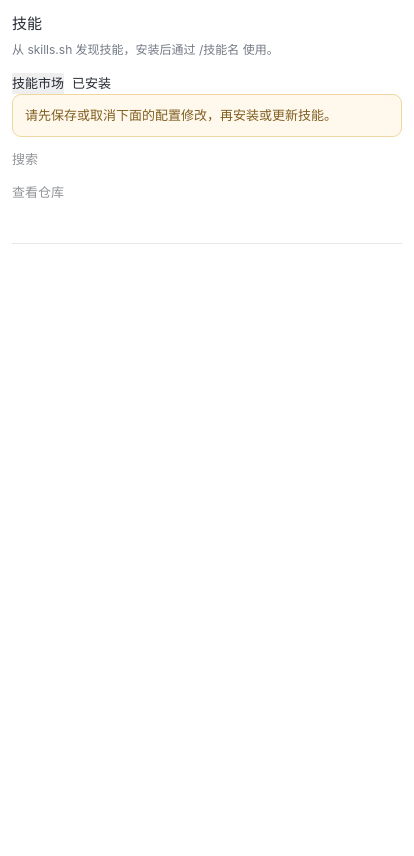
Test case: skill manager › allows checks but prevents overwriting a skill with draft changes
Click the button "已安装" at (92, 84), box left=72, top=73, right=111, bottom=94
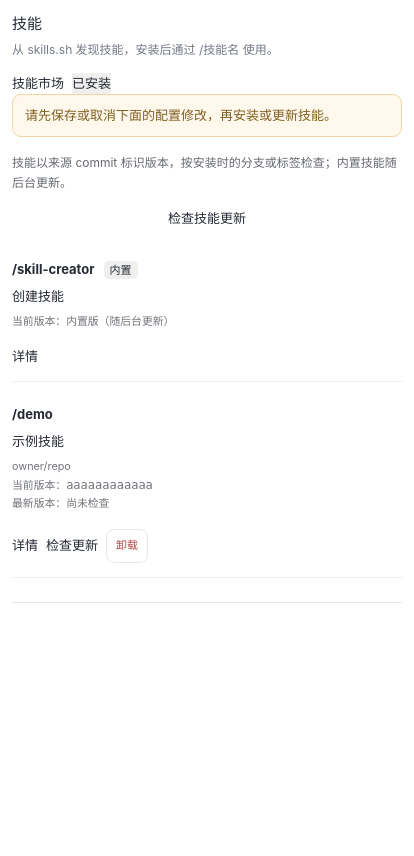
Click the button with aria-label "检查 demo 更新" at (72, 546), box left=46, top=535, right=98, bottom=556
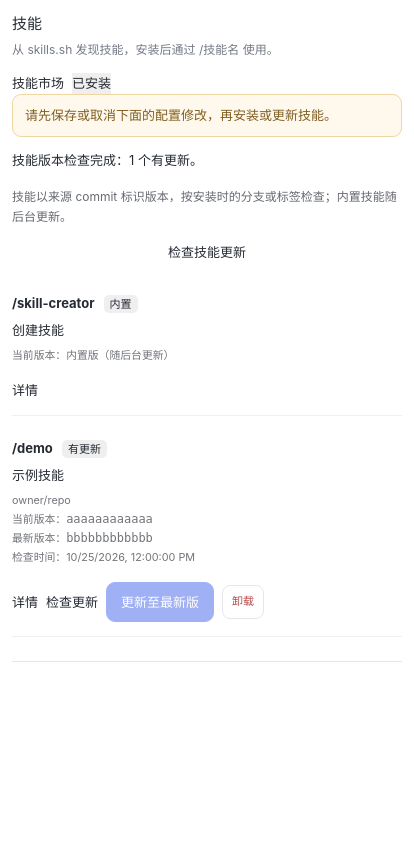
Expected: the button "更新至最新版" is disabled, left=106, top=582, right=214, bottom=622
